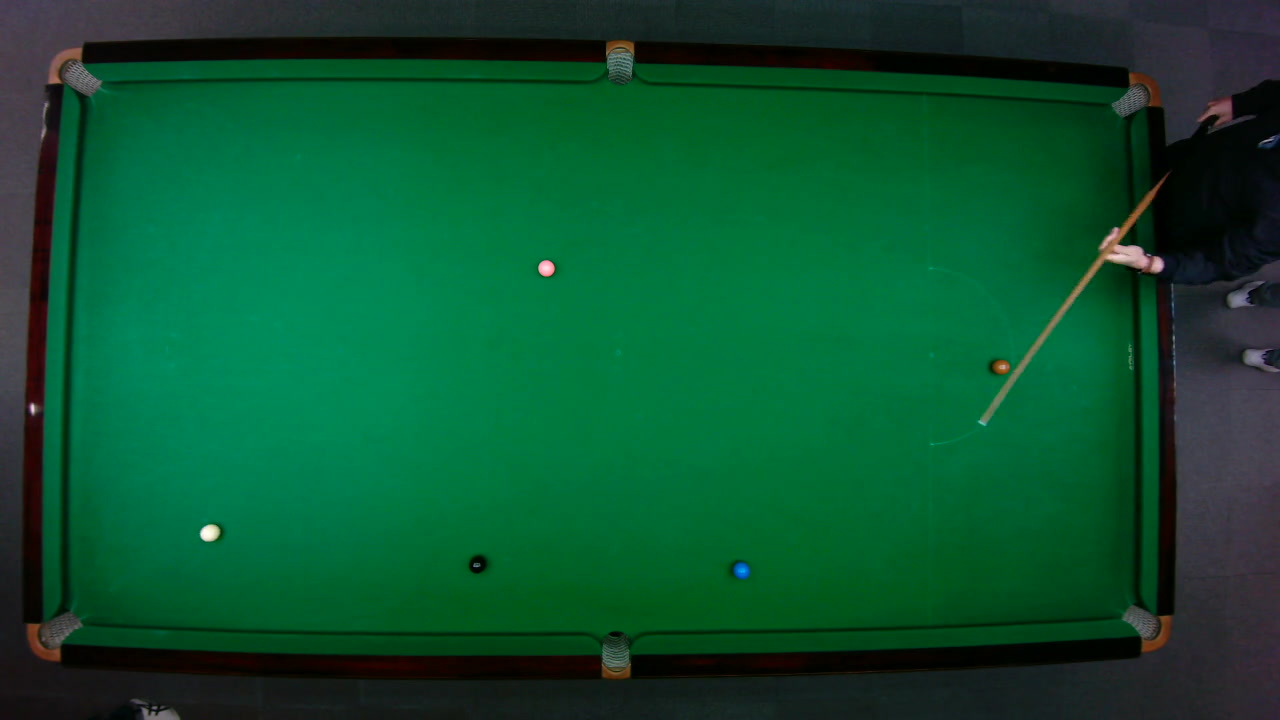bag: (25, 610, 83, 661), (46, 46, 102, 96), (1119, 603, 1171, 652), (1108, 71, 1161, 118), (600, 629, 629, 680), (605, 38, 633, 85)
black: (467, 554, 486, 573)
blue: (731, 560, 750, 579)
brown: (990, 358, 1010, 374)
cue: (973, 168, 1180, 431)
pink: (536, 258, 555, 277)
white: (198, 522, 221, 542)
zone: (927, 264, 1015, 445)
